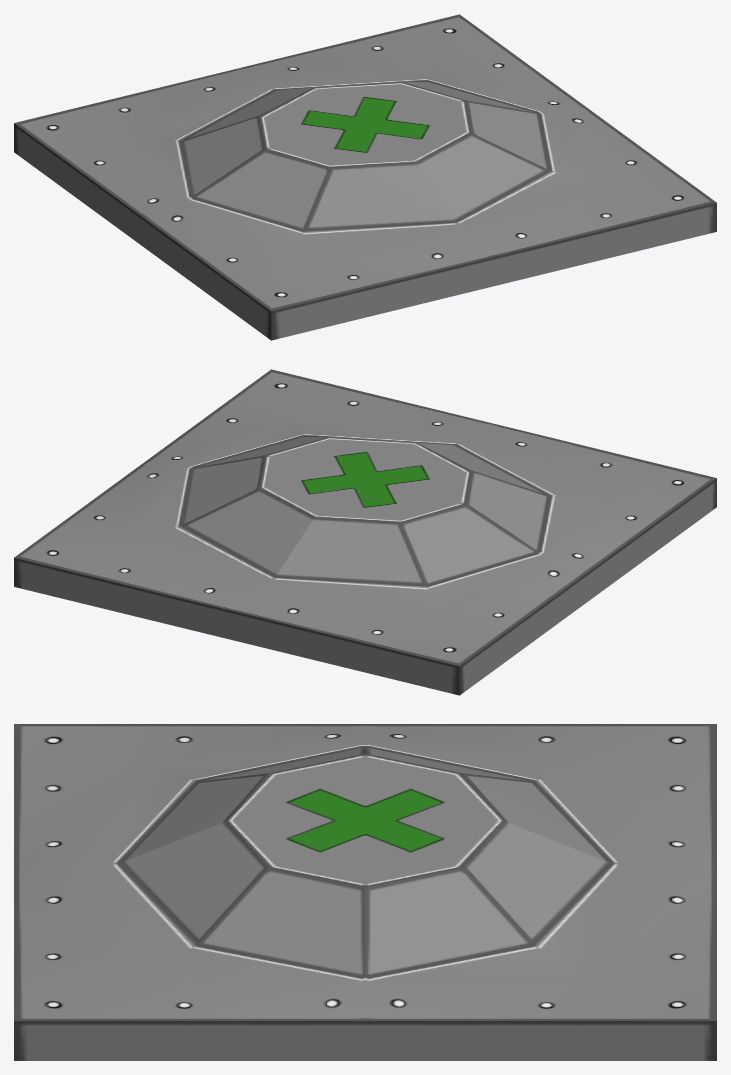
The model's file is space_centrebump.gltf.
The picture shows the model from 3 angles, top to bottom: view 1: azimuth 30°, elevation 25°; view 2: azimuth 150°, elevation 25°; view 3: azimuth 270°, elevation 25°; orthographic projection. The views are drawn at different scales.
Parts seen in each view (by area): view 1: space_centrebump_glb; view 2: space_centrebump_glb; view 3: space_centrebump_glb.
Part boxes in pixels (x1,y1,x2,y2): space_centrebump_glb: [14, 14, 716, 340]; space_centrebump_glb: [14, 369, 716, 695]; space_centrebump_glb: [14, 724, 716, 1060].
Size of what is drawn, in the model's own units: 4 by 0.5764 by 4.
1 material, 1 textured.
